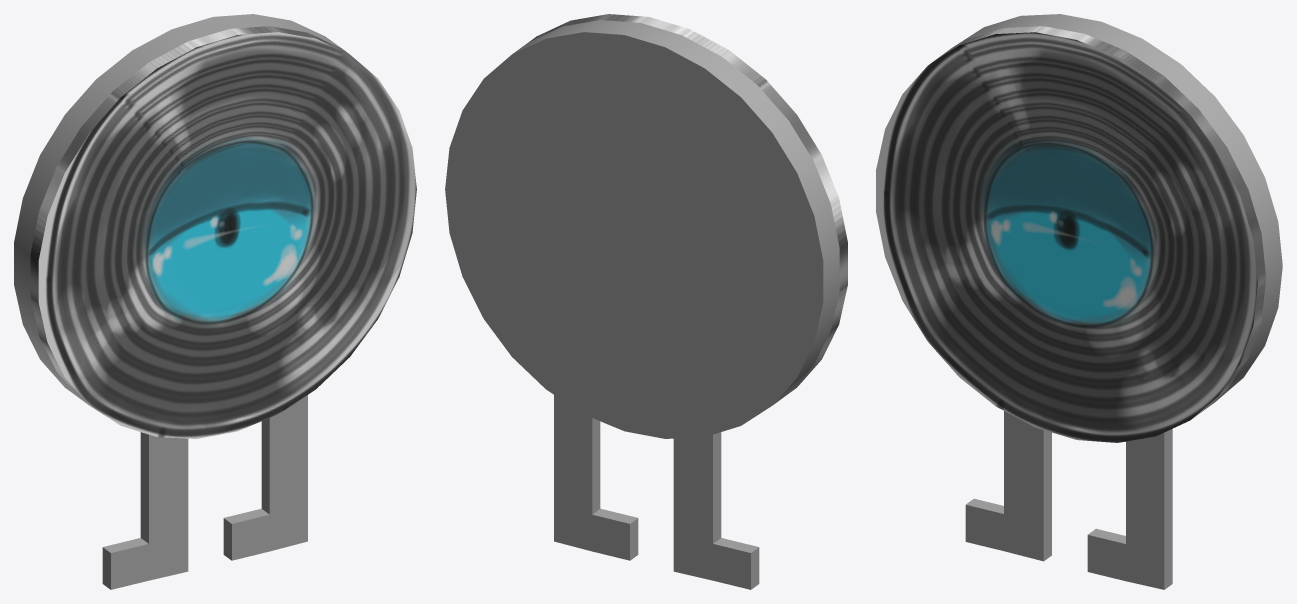
File: diskman_blue.fbx
3 renders of one model, left to right at view 1: azimuth 30°, elevation 25°; view 2: azimuth 150°, elevation 25°; view 3: azimuth 330°, elevation 25°, orthographic.
Visible parts, largest first — view 1: pCylinder4; view 2: pCylinder4; view 3: pCylinder4.
Part boxes in pixels (<box>): pCylinder4: <box>14,14,416,589</box>; pCylinder4: <box>445,14,847,589</box>; pCylinder4: <box>876,14,1282,589</box>.
Size of the model in its own units: 7.98 by 10.74 by 0.903.
Materials: 3 (2 with a texture image).
